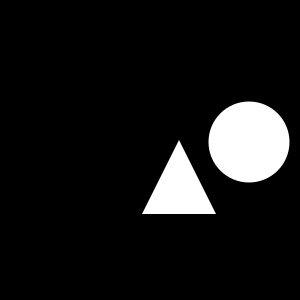rectangle: (208, 102, 290, 183)
triangle: (142, 140, 216, 214)
